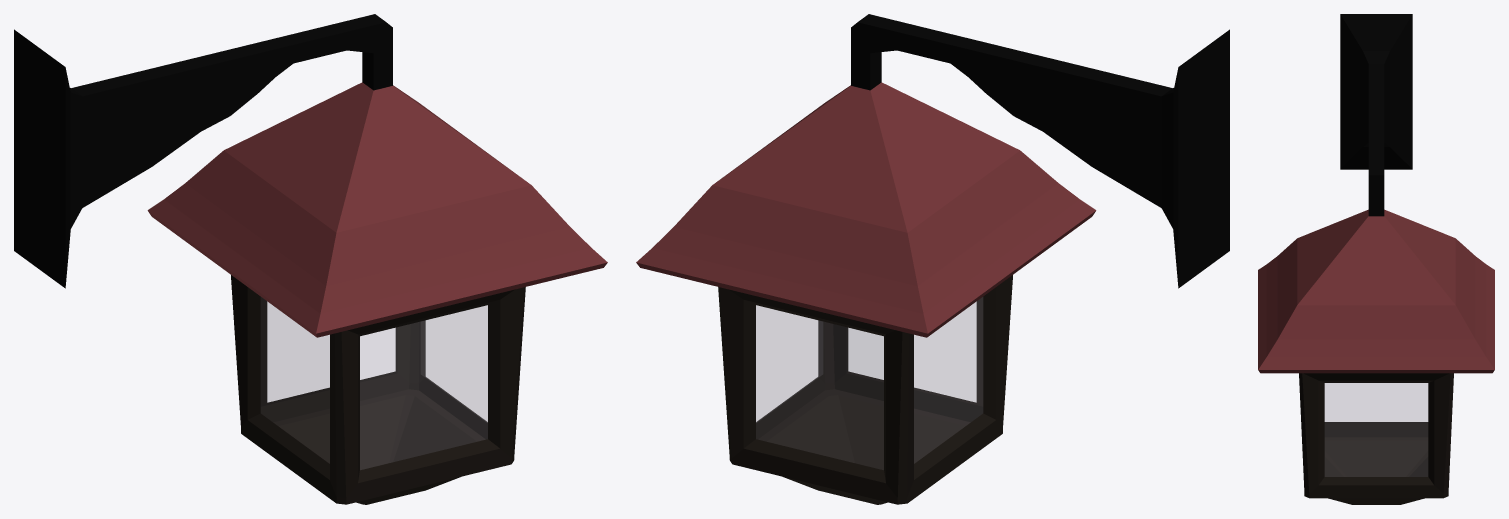
File: Wall lantern.fbx
3 views of the same model, side by side, from view 1: azimuth 30°, elevation 25°; view 2: azimuth 150°, elevation 25°; view 3: azimuth 270°, elevation 25° (orthographic). The views are drawn at different scales.
Visible parts, largest first — view 1: Wall Lantern; view 2: Wall Lantern; view 3: Wall Lantern.
Boxes of the visible parts, bbox=[...] form: Wall Lantern: bbox=[14, 14, 607, 504]; Wall Lantern: bbox=[636, 14, 1229, 504]; Wall Lantern: bbox=[1258, 14, 1494, 504].
Size of the model in its own units: 34.28 by 35.09 by 20.68.
